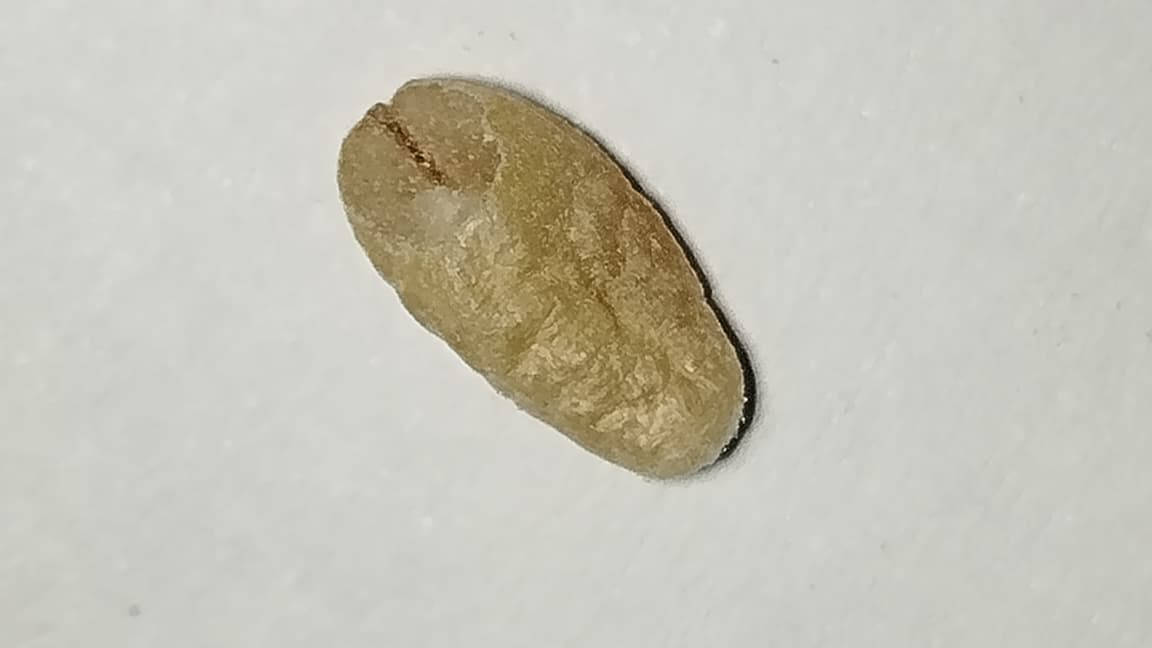damage: (338, 79, 744, 478)
insectdamage: (337, 78, 511, 237)
shriveledseed: (489, 240, 719, 466)
